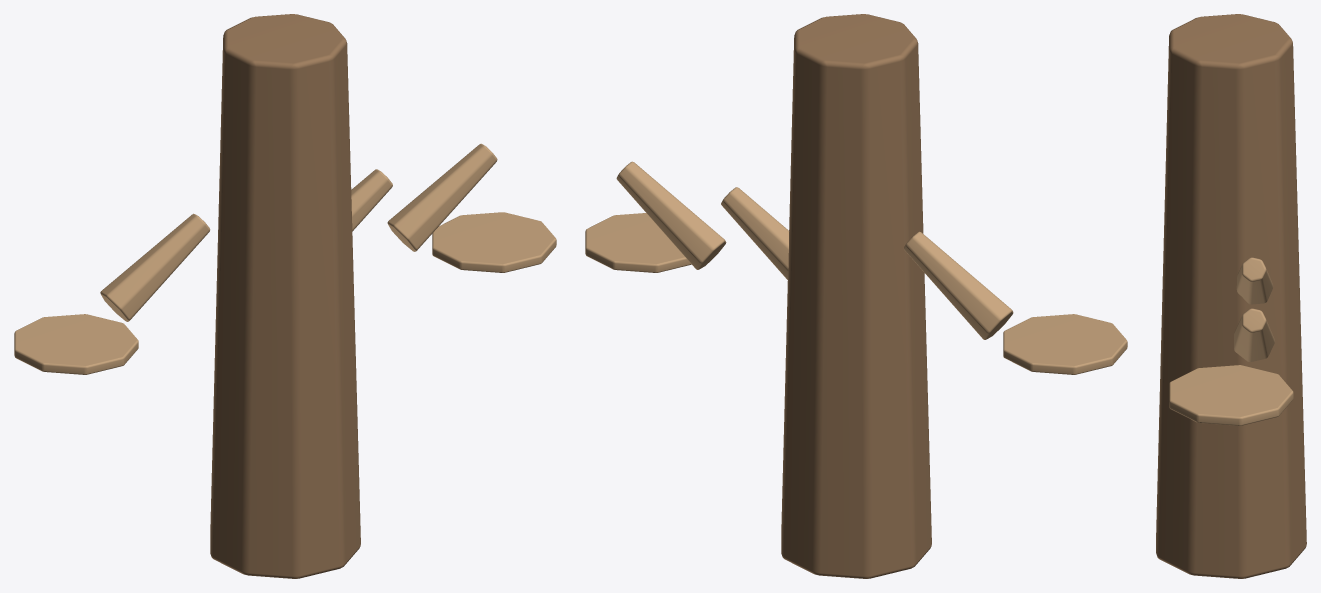
File: SM_FallenLog_01.fbx
3 views of the same model, side by side, from view 1: azimuth 30°, elevation 25°; view 2: azimuth 150°, elevation 25°; view 3: azimuth 270°, elevation 25° (orthographic).
Parts seen in each view (by area): view 1: SM_FallenLog_01; view 2: SM_FallenLog_01; view 3: SM_FallenLog_01.
Boxes of the visible parts, x1=… form: SM_FallenLog_01: x1=14, y1=14, x2=556, y2=578; SM_FallenLog_01: x1=585, y1=14, x2=1127, y2=578; SM_FallenLog_01: x1=1156, y1=14, x2=1306, y2=578.
Bounding box in the file's own units: 3.03 × 2.8 × 0.7503.
